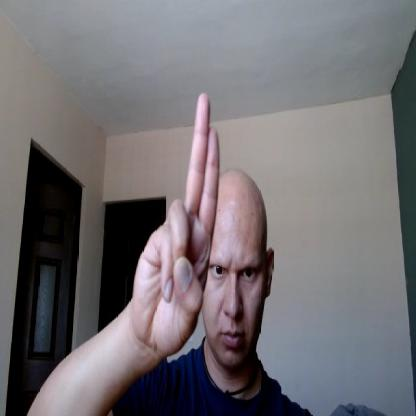U: (132, 93, 220, 357)
